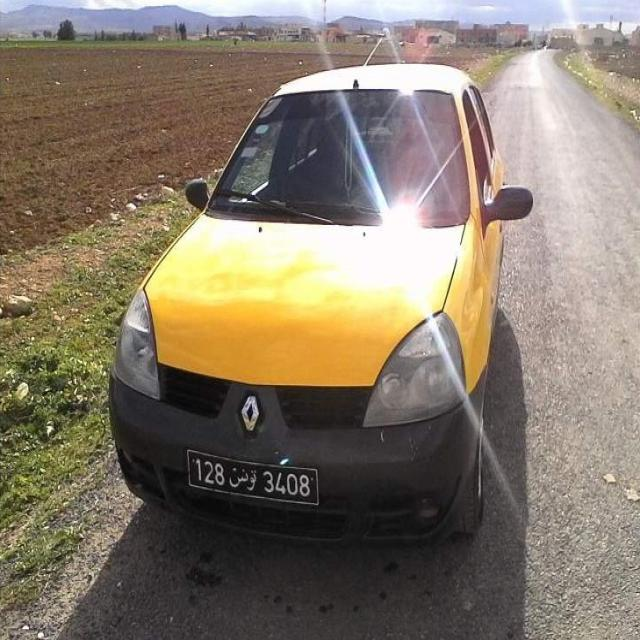licence plate: (190, 453, 317, 502)
